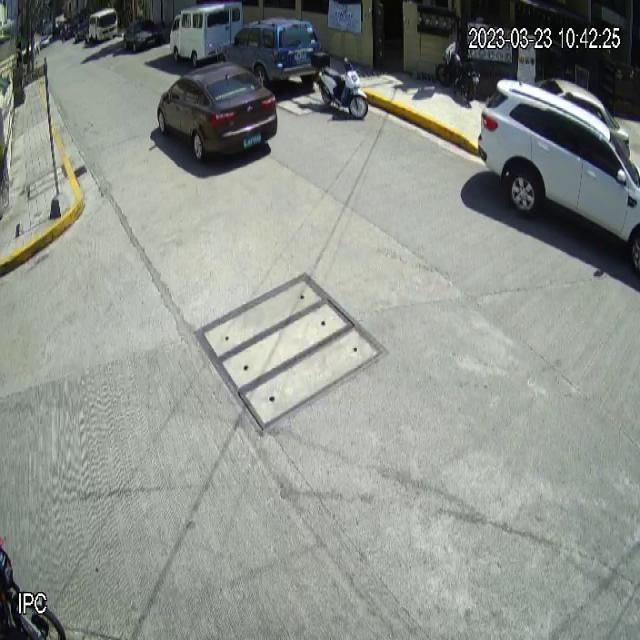Car: (477, 79, 640, 278), (156, 64, 280, 166), (217, 16, 322, 89)
Motorcycle: (310, 50, 369, 117)
Van: (169, 2, 244, 68)
